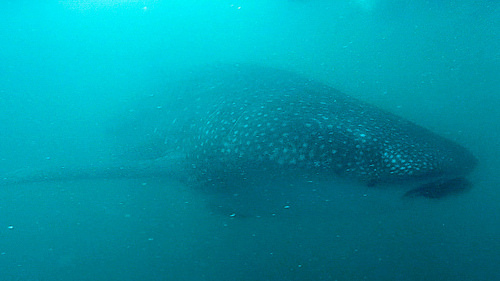shark: (8, 29, 486, 243)
